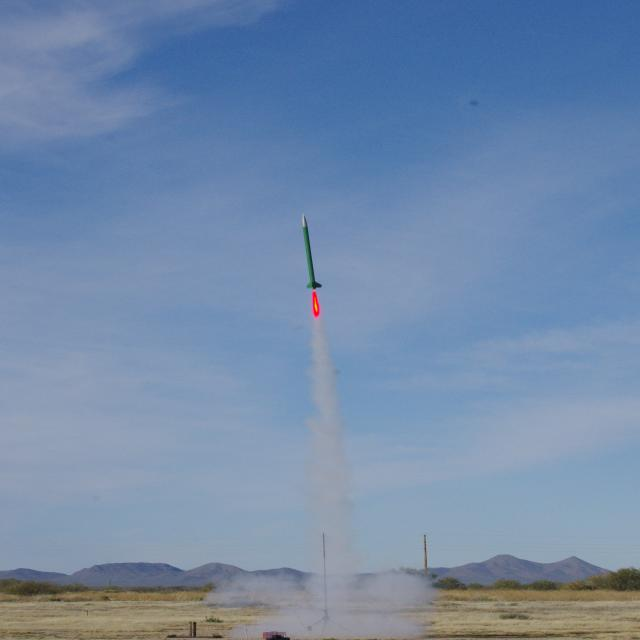Rocket: (301, 214, 323, 290)
